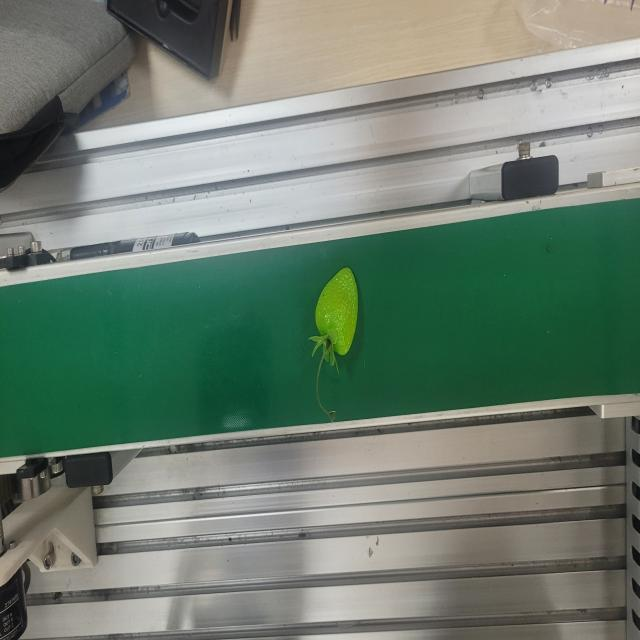Small Unripe Strawberry: (309, 263, 360, 371)
